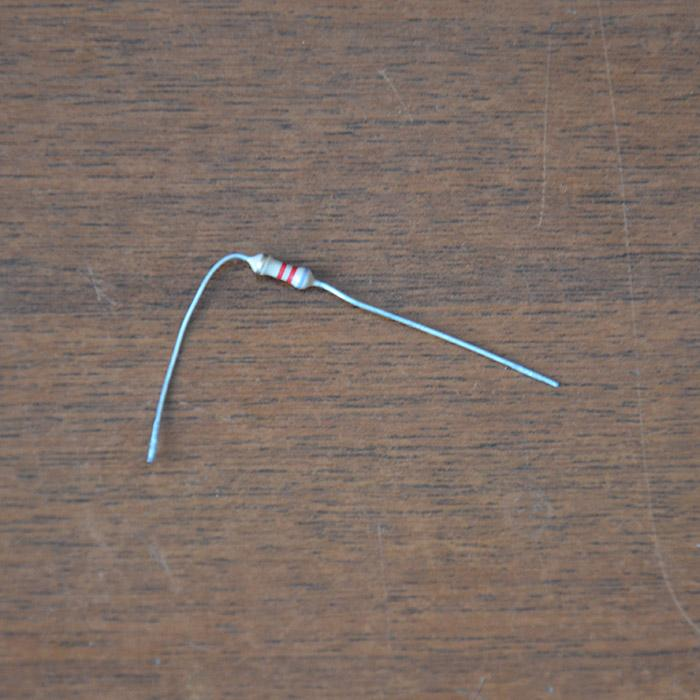resistor: (250, 253, 314, 290)
